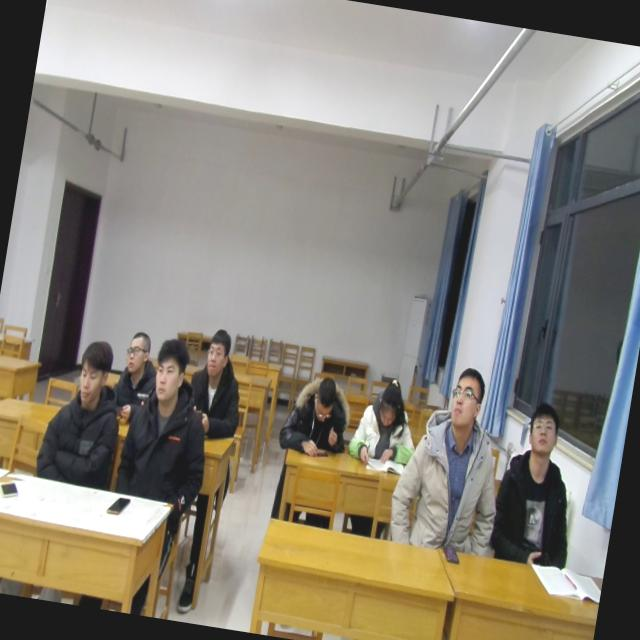down: (372, 375, 408, 436), (307, 367, 342, 425)
lookup: (68, 332, 118, 418), (148, 330, 194, 410), (443, 358, 491, 432), (522, 396, 566, 464), (120, 321, 155, 378), (202, 323, 236, 379)
sit: (382, 360, 518, 560), (110, 332, 222, 507), (487, 399, 589, 573), (33, 332, 133, 487), (182, 326, 254, 445), (348, 372, 426, 476), (278, 366, 358, 460), (106, 331, 164, 428)
